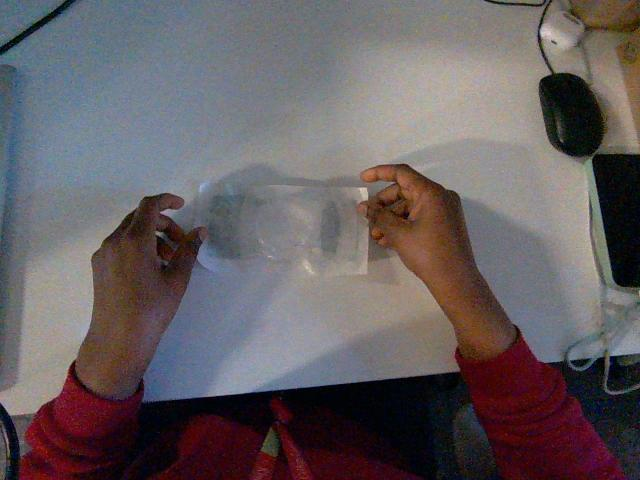gallipot: (196, 183, 368, 275)
